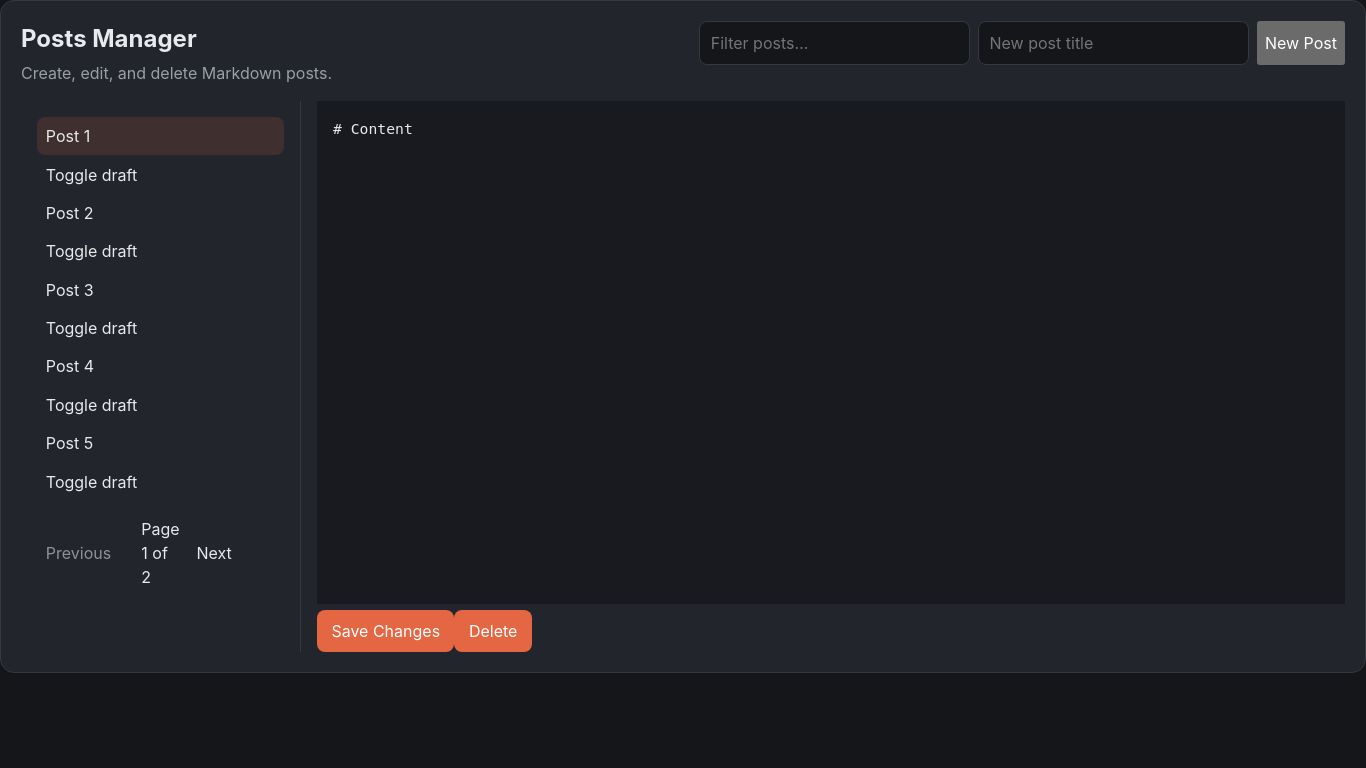
Test: PostsManager › paginates posts
Expected: the text with test id "posts-page-indicator" reads "Page 1 of 2", [141,517,180,589]
Step 1. Click the button "Next" → (236, 553), box [188,534,284,572]
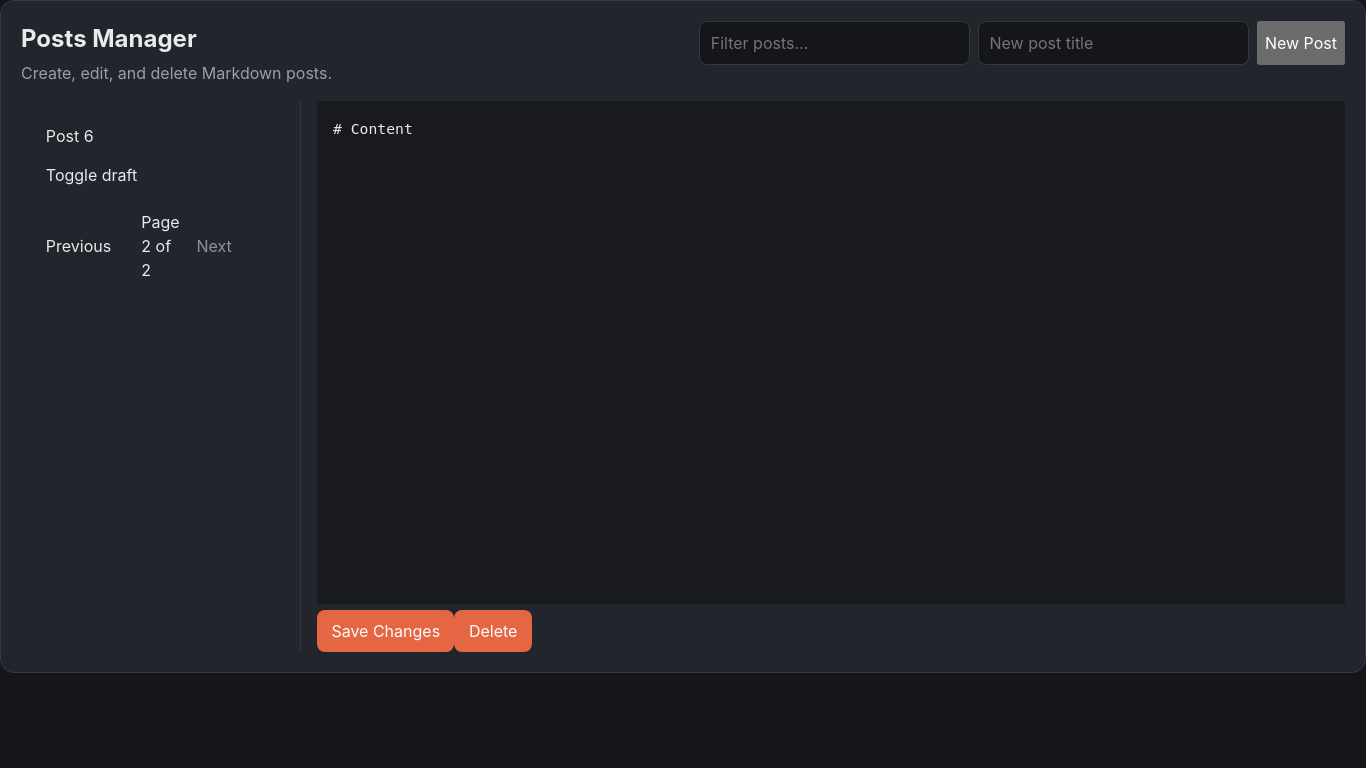
Expected: the text with test id "posts-page-indicator" reads "Page 2 of 2", [141,210,180,282]
